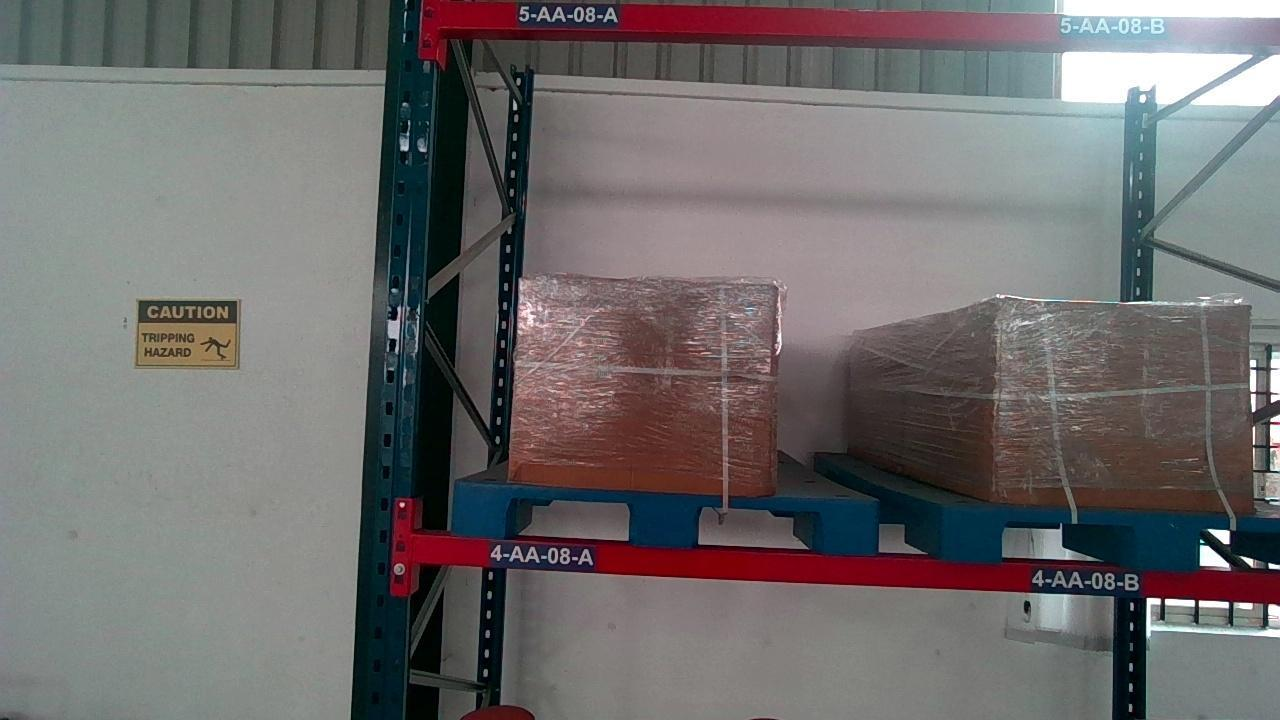h_rack: (409, 528, 1280, 603), (441, 3, 1280, 54)
small_pallet: (447, 484, 881, 555), (952, 507, 1280, 568)
